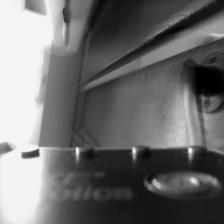Door Handle: (180, 50, 224, 148)
